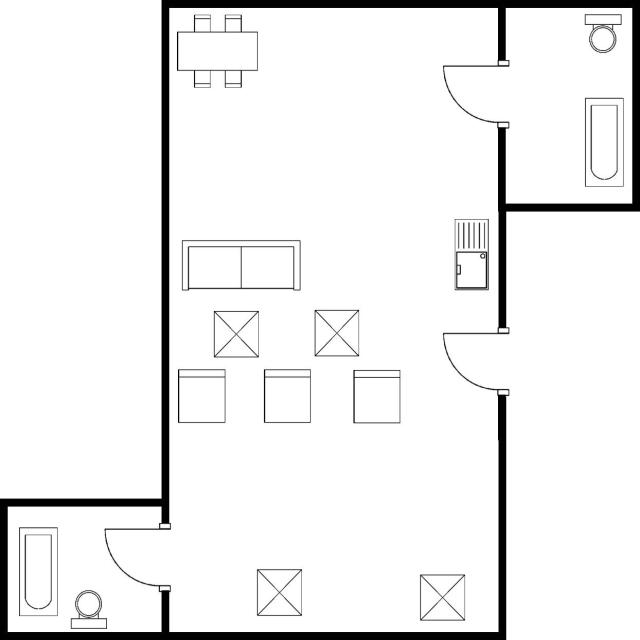coffee_table: (250, 563, 306, 621), (309, 306, 366, 361), (208, 306, 263, 362), (416, 568, 470, 623)
dining_table: (174, 10, 262, 94)
large_sink: (578, 11, 628, 56), (66, 585, 115, 630)
large_sofa: (178, 237, 306, 297)
sink: (450, 214, 492, 296)
small_sofa: (348, 366, 407, 428), (258, 366, 314, 428), (175, 364, 229, 426)
tub: (580, 91, 626, 192), (15, 522, 61, 621)
